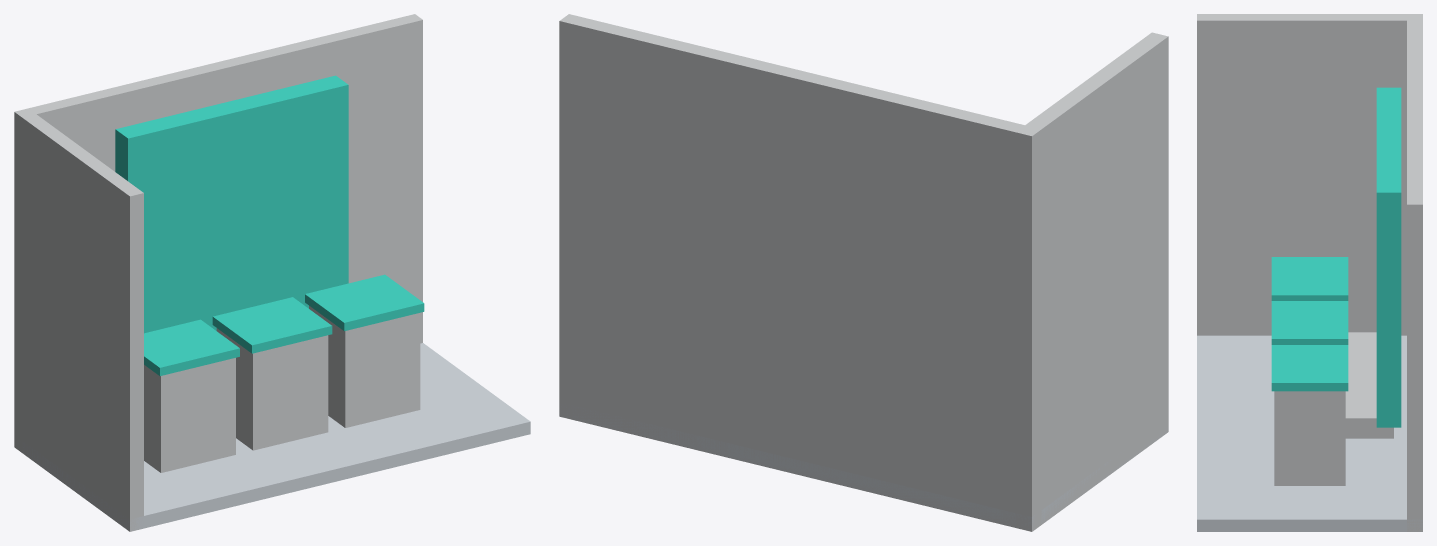
3 views of the same model, side by side, from view 1: azimuth 30°, elevation 25°; view 2: azimuth 150°, elevation 25°; view 3: azimuth 270°, elevation 25° (orthographic). The views are drawn at different scales.
Visible parts, largest first — view 1: Exhibition Booth Concept; view 2: Exhibition Booth Concept; view 3: Exhibition Booth Concept.
Part boxes in pixels (x1,y1,x2,y2): Exhibition Booth Concept: (14, 14, 530, 531); Exhibition Booth Concept: (559, 14, 1168, 531); Exhibition Booth Concept: (1197, 14, 1422, 531).
Bounding box in the file's own units: 4 × 3.2 × 2.
